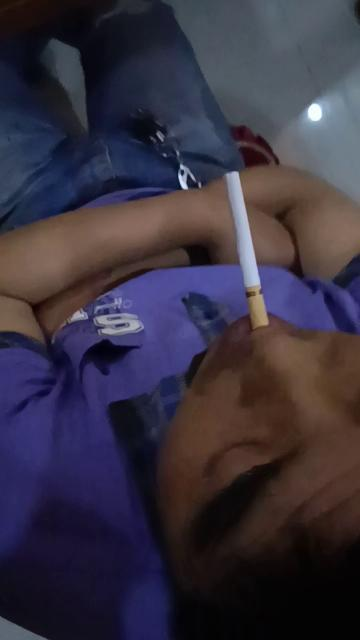Smoking: (226, 170, 272, 330)
